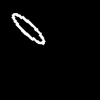chain: (12, 13, 44, 44)
